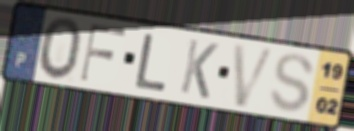F: (78, 22, 129, 84)
K: (178, 37, 221, 102)
L: (132, 32, 169, 94)
O: (37, 15, 84, 83)
S: (268, 52, 317, 115)
V: (231, 41, 279, 110)
